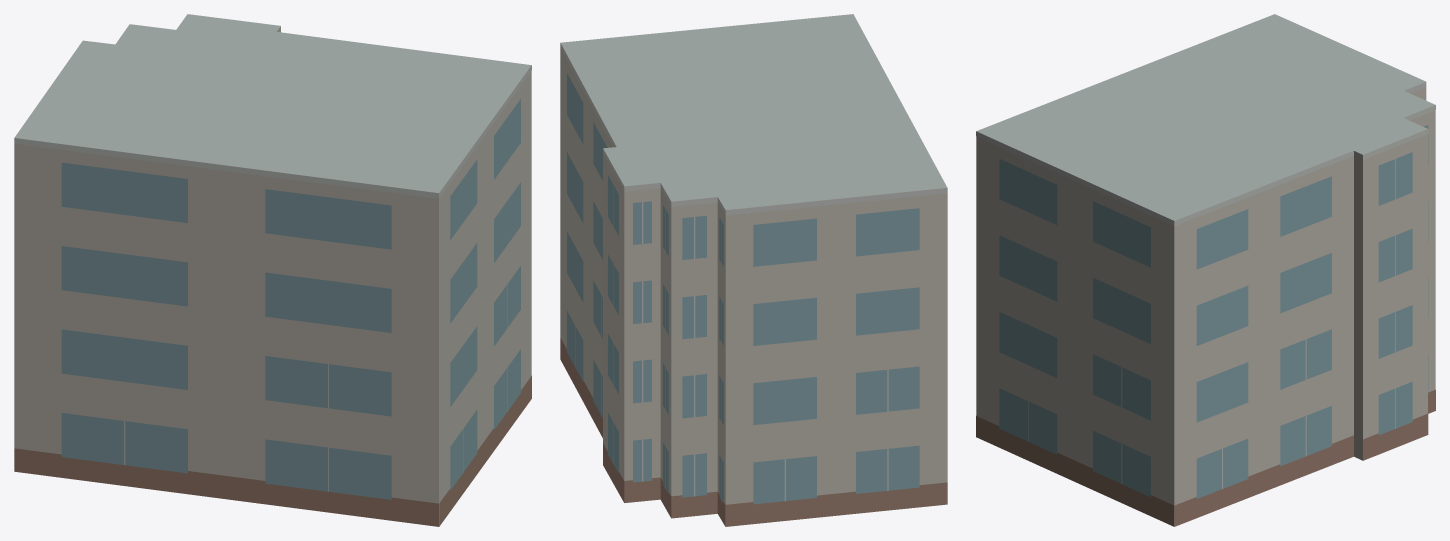
The model's file is survey-upis-32935994.glb.
3 views of the same model, side by side, from view 1: azimuth 30°, elevation 25°; view 2: azimuth 150°, elevation 25°; view 3: azimuth 270°, elevation 25° (orthographic). The views are drawn at different scales.
Parts seen in each view (by area): view 1: survey-upis-32935994.tmp; view 2: survey-upis-32935994.tmp; view 3: survey-upis-32935994.tmp.
Boxes of the visible parts, x1,y1,x2,y2 form: survey-upis-32935994.tmp: (14,14,531,526); survey-upis-32935994.tmp: (560,14,947,526); survey-upis-32935994.tmp: (976,14,1435,526).
Bounding box in the file's own units: 20.68 × 14.25 × 19.41.
